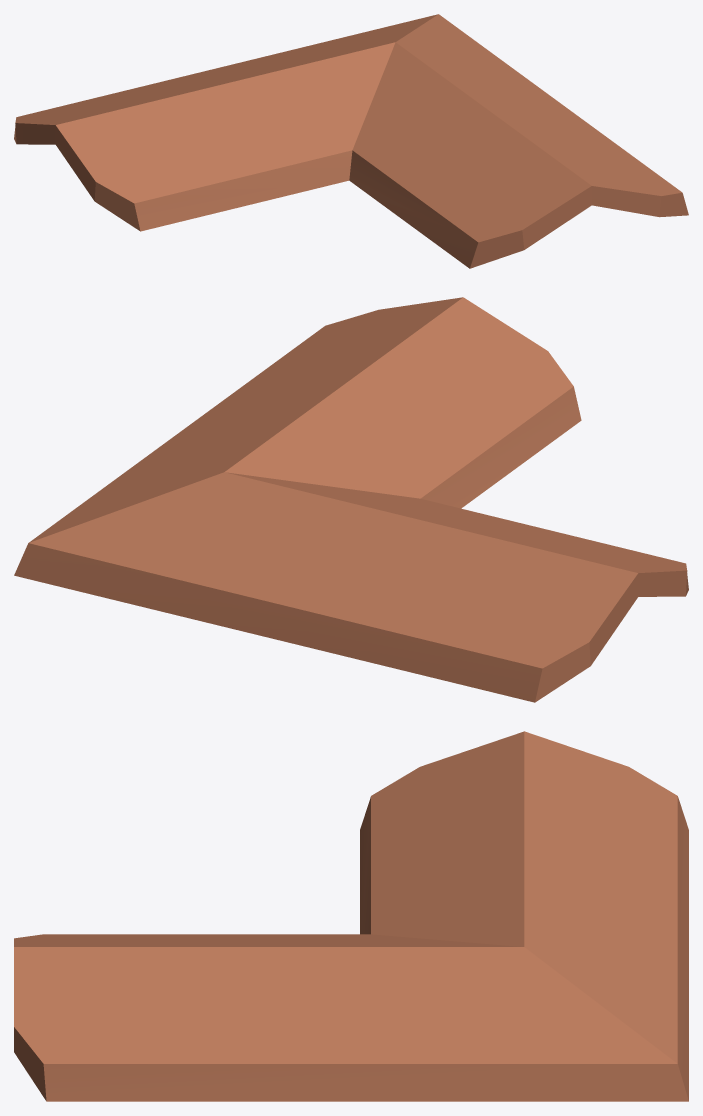
File: empire-roof-top-turn-1m-empire.glb
The picture shows the model from 3 angles, top to bottom: view 1: azimuth 30°, elevation 25°; view 2: azimuth 150°, elevation 25°; view 3: azimuth 270°, elevation 25°; orthographic projection. The views are drawn at different scales.
Visible parts, largest first — view 1: SM_Roof_Top_Turn_1m_Empire; view 2: SM_Roof_Top_Turn_1m_Empire; view 3: SM_Roof_Top_Turn_1m_Empire.
Boxes of the visible parts, x1,y1,x2,y2 form: SM_Roof_Top_Turn_1m_Empire: (14, 14, 688, 268); SM_Roof_Top_Turn_1m_Empire: (14, 297, 688, 702); SM_Roof_Top_Turn_1m_Empire: (14, 731, 688, 1101).
Bounding box in the file's own units: 0.9917 × 0.1378 × 0.9917.
